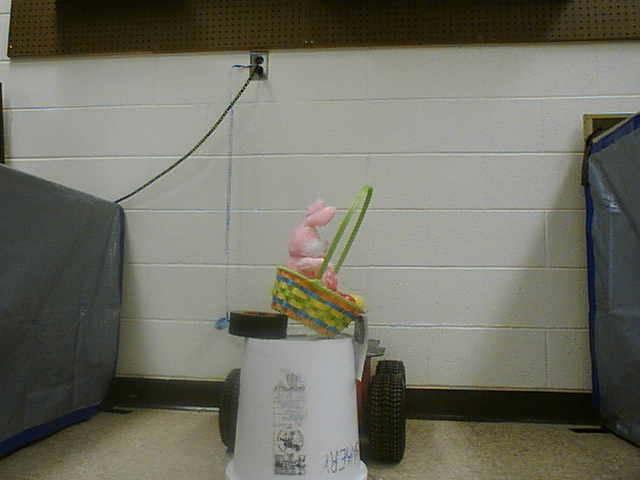bunny: (267, 174, 385, 340)
